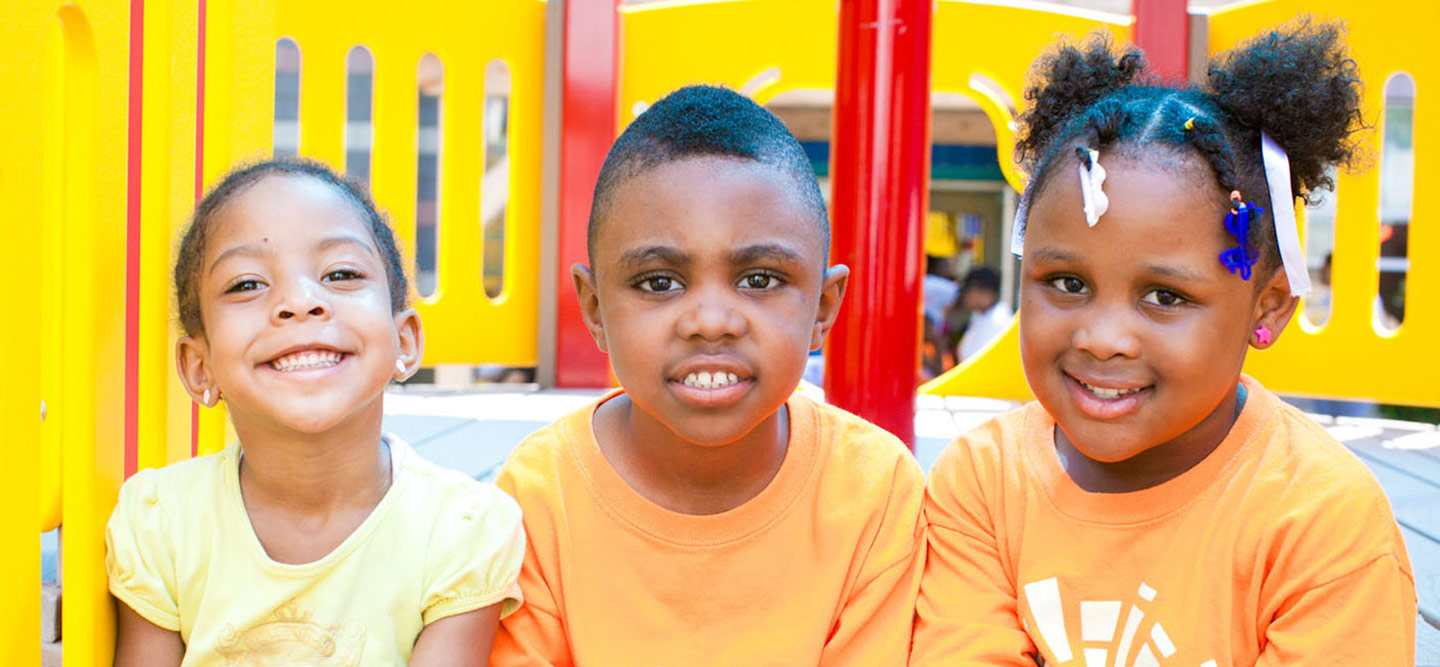human: (916, 34, 1426, 667), (486, 76, 933, 667), (99, 148, 530, 667)
